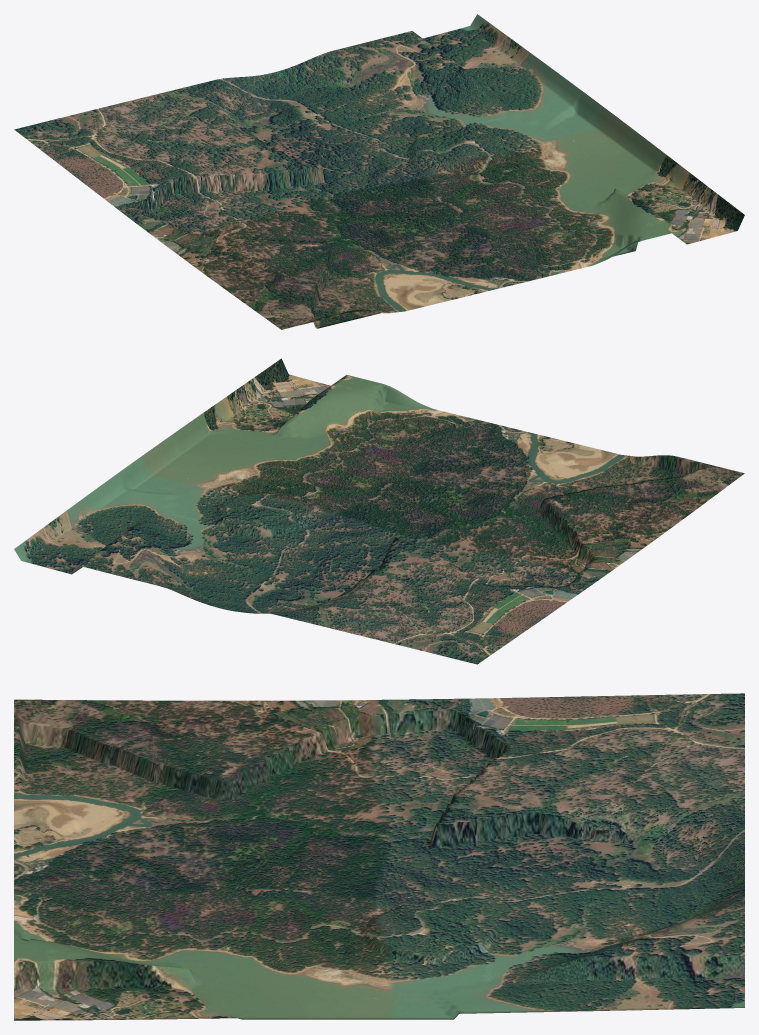
The model's file is terrain_real_T_W04_N04.glb.
3 views of the same model, one above another, from view 1: azimuth 30°, elevation 25°; view 2: azimuth 150°, elevation 25°; view 3: azimuth 270°, elevation 25° (orthographic). The views are drawn at different scales.
Visible parts, largest first — view 1: Terrain_Real_DEM_T_W04_N04; view 2: Terrain_Real_DEM_T_W04_N04; view 3: Terrain_Real_DEM_T_W04_N04.
Part boxes in pixels (bbox=[...]): Terrain_Real_DEM_T_W04_N04: bbox=[14, 14, 744, 329]; Terrain_Real_DEM_T_W04_N04: bbox=[14, 358, 744, 664]; Terrain_Real_DEM_T_W04_N04: bbox=[14, 693, 744, 1020].
Bounding box in the file's own units: 2000 × 84.99 × 2000.
Materials: 1 (1 with a texture image).
